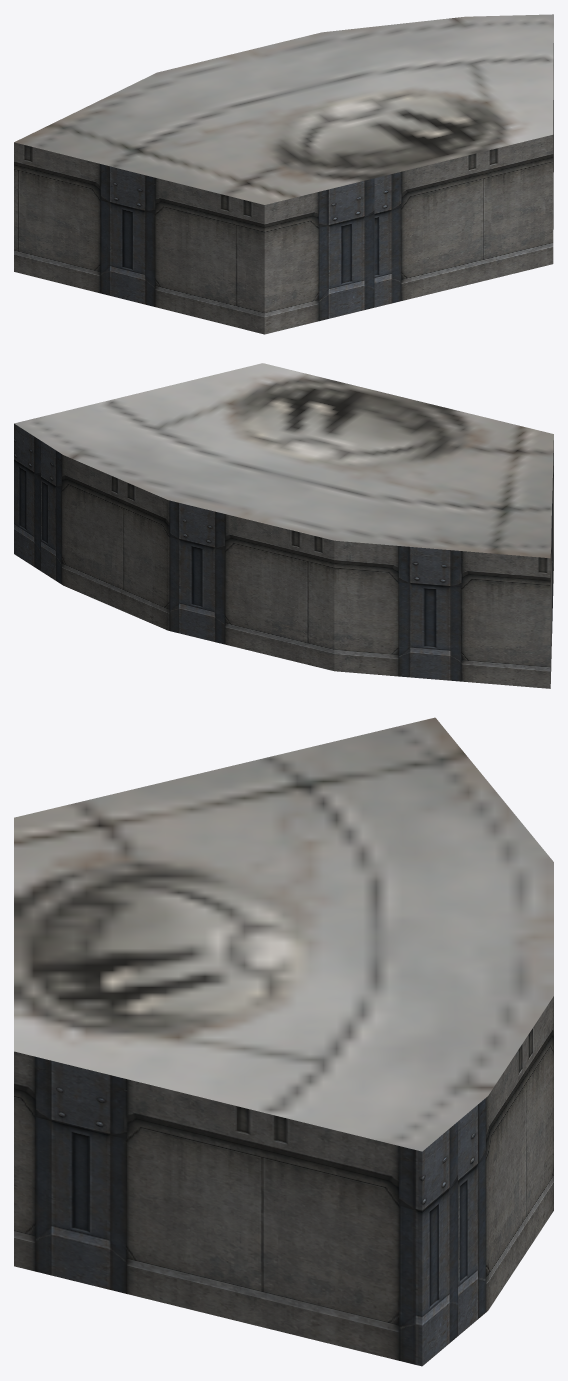
File: dropship_02.glb
3 renders of one model, top to bottom at view 1: azimuth 30°, elevation 25°; view 2: azimuth 150°, elevation 25°; view 3: azimuth 270°, elevation 25°, orthographic. The views are drawn at different scales.
Parts seen in each view (by area): view 1: buildings/saxarba/dropship/dropship_02; view 2: buildings/saxarba/dropship/dropship_02; view 3: buildings/saxarba/dropship/dropship_02.
Part boxes in pixels (x1,y1,x2,y2): buildings/saxarba/dropship/dropship_02: (14, 14, 553, 334); buildings/saxarba/dropship/dropship_02: (14, 363, 553, 688); buildings/saxarba/dropship/dropship_02: (14, 717, 553, 1366).
Size of the model in its own units: 78 by 18 by 41.
